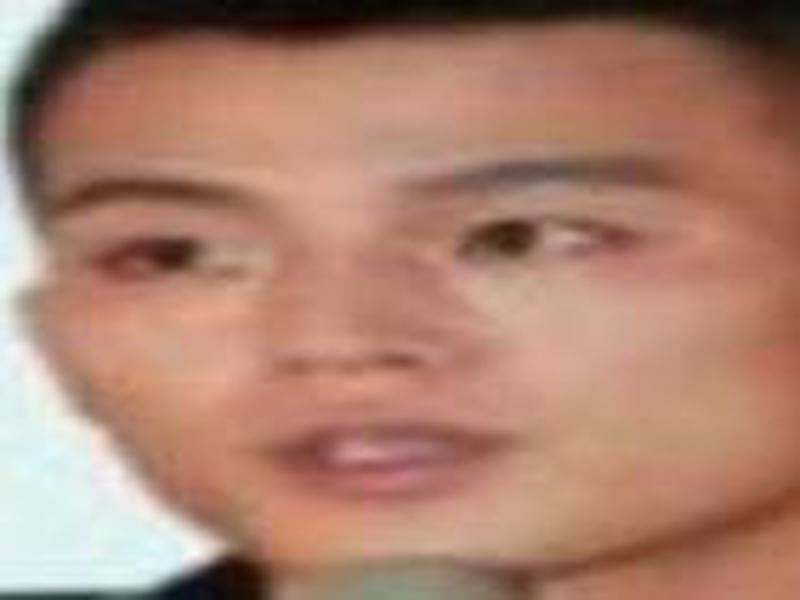without_mask: (29, 44, 776, 574)
